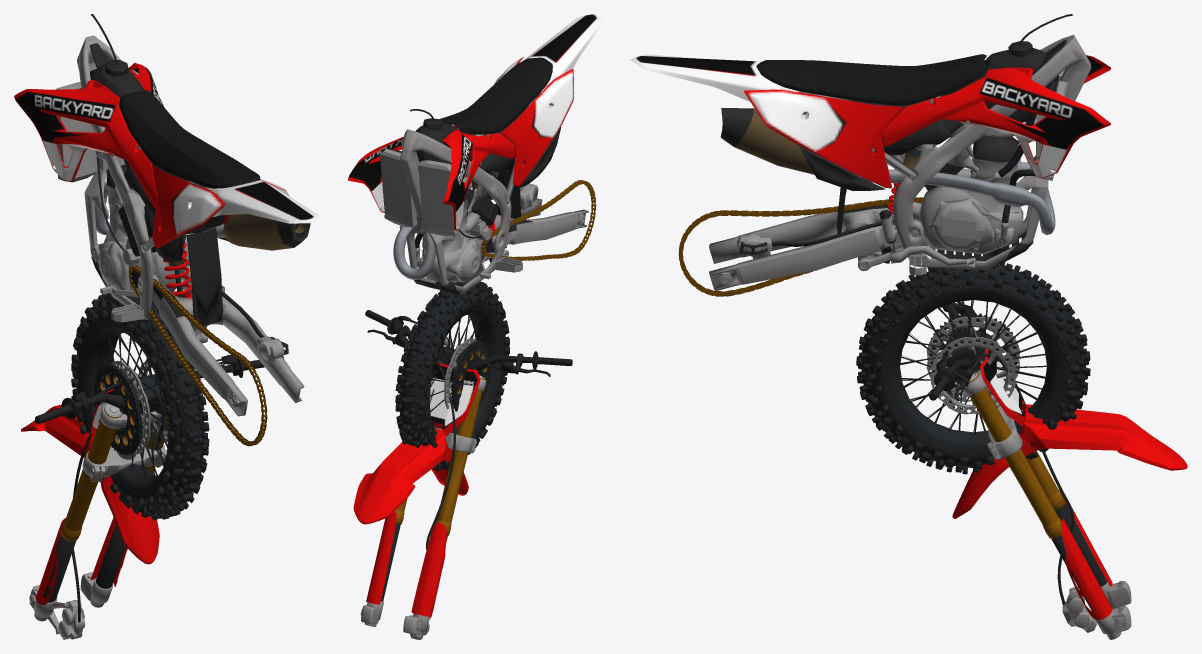
File: HondaCRF450.fbx
3 renders of one model, left to right at view 1: azimuth 30°, elevation 25°; view 2: azimuth 150°, elevation 25°; view 3: azimuth 270°, elevation 25°, orthographic. The views are drawn at different scales.
Parts seen in each view (by area): view 1: crf_Body, crf_WheelRear, crf_GasTank, crf_Fork, crf_WheelFront, crf_Seat, crf_RearSuspension, crf_FenderFront, crf_Muffler, crf_FenderRear, crf_Steering, crf_BrakeFront (+2 smaller); view 2: crf_Body, crf_WheelRear, crf_Fork, crf_GasTank, crf_FenderFront, crf_WheelFront, crf_Seat, crf_Steering, crf_FenderRear, crf_RearSuspension, crf_PlateFront, crf_Muffler (+2 smaller); view 3: crf_Body, crf_WheelRear, crf_GasTank, crf_Fork, crf_WheelFront, crf_RearSuspension, crf_Seat, crf_FenderFront, crf_Muffler, crf_FenderRear, crf_Steering, crf_DiscRear (+3 smaller).
Boxes of the visible parts, <box> form: crf_Body: <box>55,14,289,446</box>; crf_WheelRear: <box>71,297,209,515</box>; crf_GasTank: <box>14,43,163,209</box>; crf_Fork: <box>29,374,167,622</box>; crf_WheelFront: <box>72,293,207,519</box>; crf_Seat: <box>119,90,260,188</box>; crf_RearSuspension: <box>152,241,304,416</box>; crf_FenderFront: <box>21,404,159,564</box>; crf_Muffler: <box>94,182,310,250</box>; crf_FenderRear: <box>212,180,319,223</box>; crf_Steering: <box>35,354,283,459</box>; crf_BrakeFront: <box>47,600,84,639</box>; crf_Body: <box>379,57,596,294</box>; crf_WheelRear: <box>395,285,509,466</box>; crf_Fork: <box>360,345,486,638</box>; crf_GasTank: <box>348,118,515,230</box>; crf_FenderFront: <box>353,429,468,524</box>; crf_WheelFront: <box>396,281,508,470</box>; crf_Seat: <box>439,57,552,134</box>; crf_Steering: <box>365,310,572,430</box>; crf_FenderRear: <box>525,14,601,92</box>; crf_RearSuspension: <box>487,198,588,248</box>; crf_PlateFront: <box>429,363,480,436</box>; crf_Muffler: <box>393,182,472,279</box>; crf_Body: <box>678,14,1091,296</box>; crf_WheelRear: <box>861,268,1085,470</box>; crf_GasTank: <box>881,39,1110,178</box>; crf_Fork: <box>959,353,1131,639</box>; crf_WheelFront: <box>856,260,1090,474</box>; crf_RearSuspension: <box>709,183,923,291</box>; crf_Seat: <box>756,54,986,105</box>; crf_FenderFront: <box>952,404,1187,518</box>; crf_Muffler: <box>720,108,1055,234</box>; crf_FenderRear: <box>630,54,798,101</box>; crf_Steering: <box>929,301,1009,423</box>; crf_DiscRear: <box>931,337,1015,414</box>.
Size of the model in its own units: 10.62 by 25.69 by 20.79.
